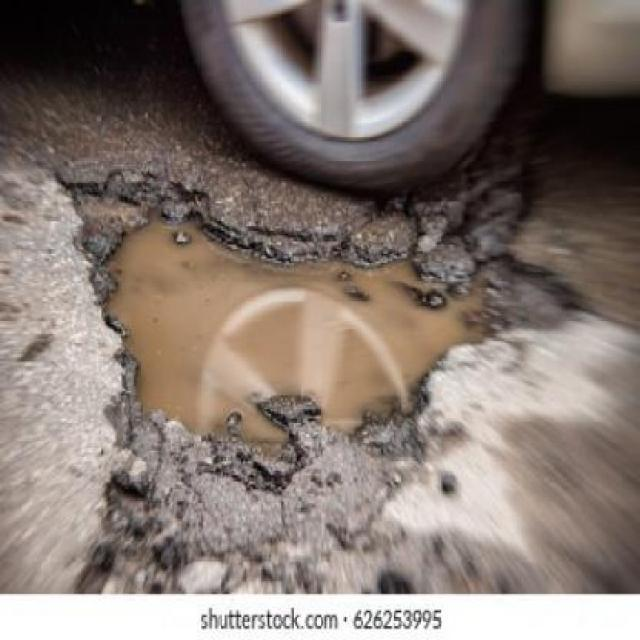Pothole: (64, 181, 508, 464)
